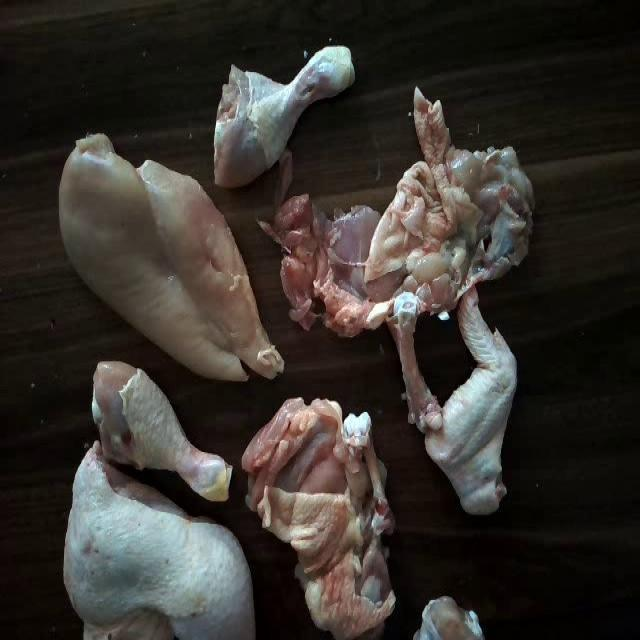breast: (53, 136, 275, 378)
leg: (204, 50, 354, 177)
wing: (419, 288, 522, 510), (83, 360, 227, 500)
